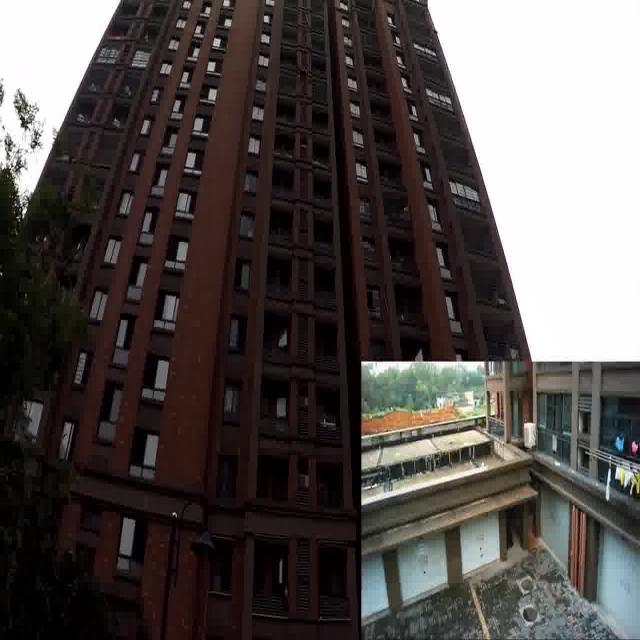drones: (292, 61, 316, 89)
